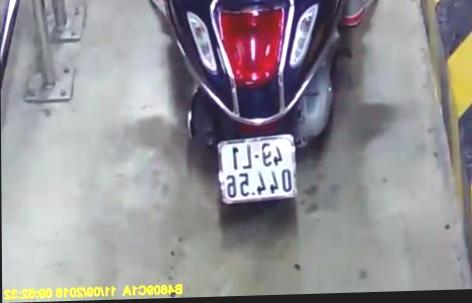License_Plate: (213, 129, 302, 214)
